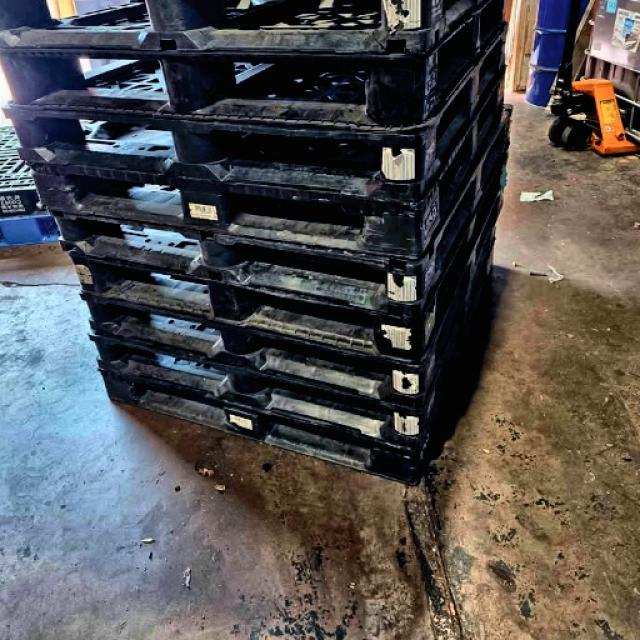igps: (91, 348, 427, 492), (82, 320, 428, 458), (40, 202, 425, 324), (75, 290, 430, 418), (16, 154, 424, 265), (65, 249, 426, 371), (0, 100, 421, 202), (0, 44, 421, 135), (0, 0, 515, 62)
